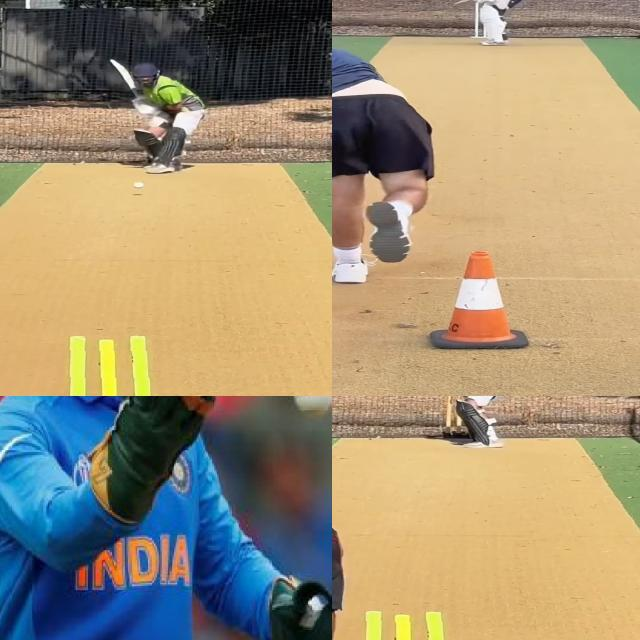Cricket ball: (289, 396, 332, 423), (132, 181, 145, 189)
Stumps: (46, 335, 174, 396)
